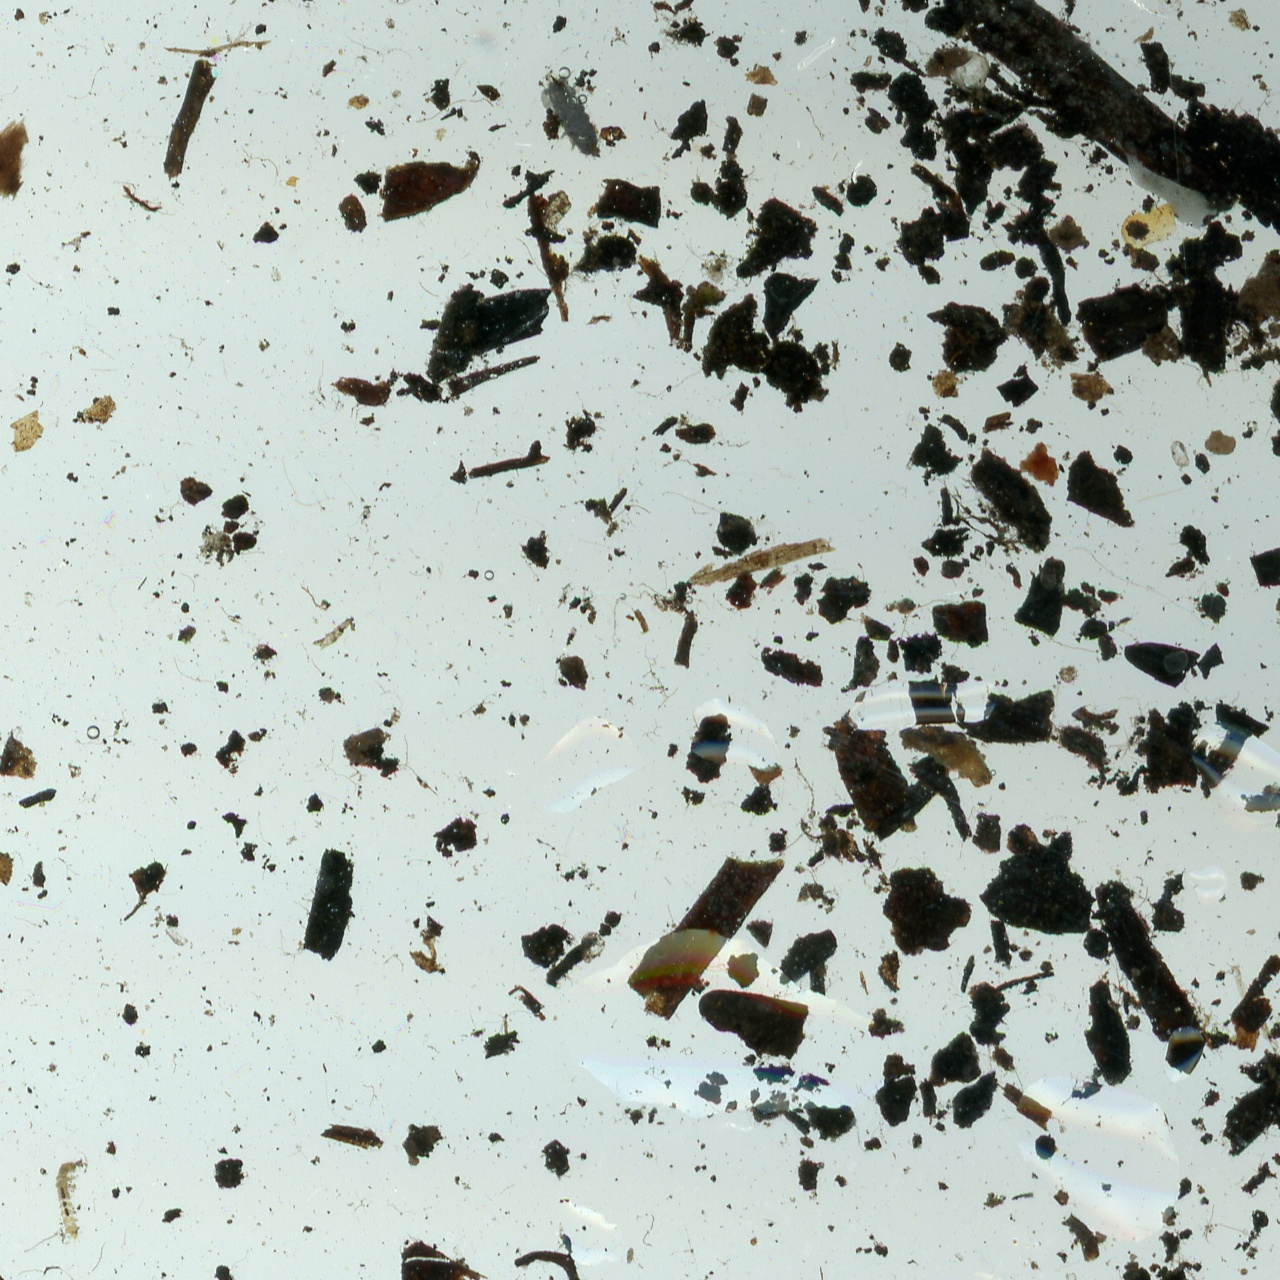arthropod: (55, 1161, 82, 1241), (1269, 547, 1280, 648)
